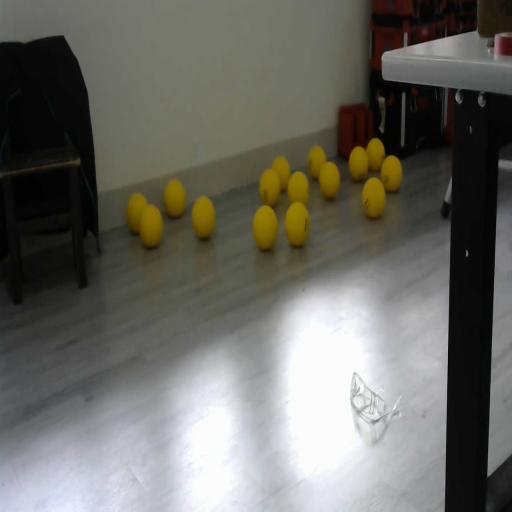FUEL: (284, 200, 310, 247), (252, 204, 278, 250), (138, 203, 164, 249), (360, 176, 386, 219), (191, 196, 216, 240), (163, 178, 186, 218), (286, 169, 310, 206), (318, 162, 341, 199), (380, 154, 402, 192), (271, 154, 291, 192), (348, 145, 369, 181), (366, 138, 385, 172)
